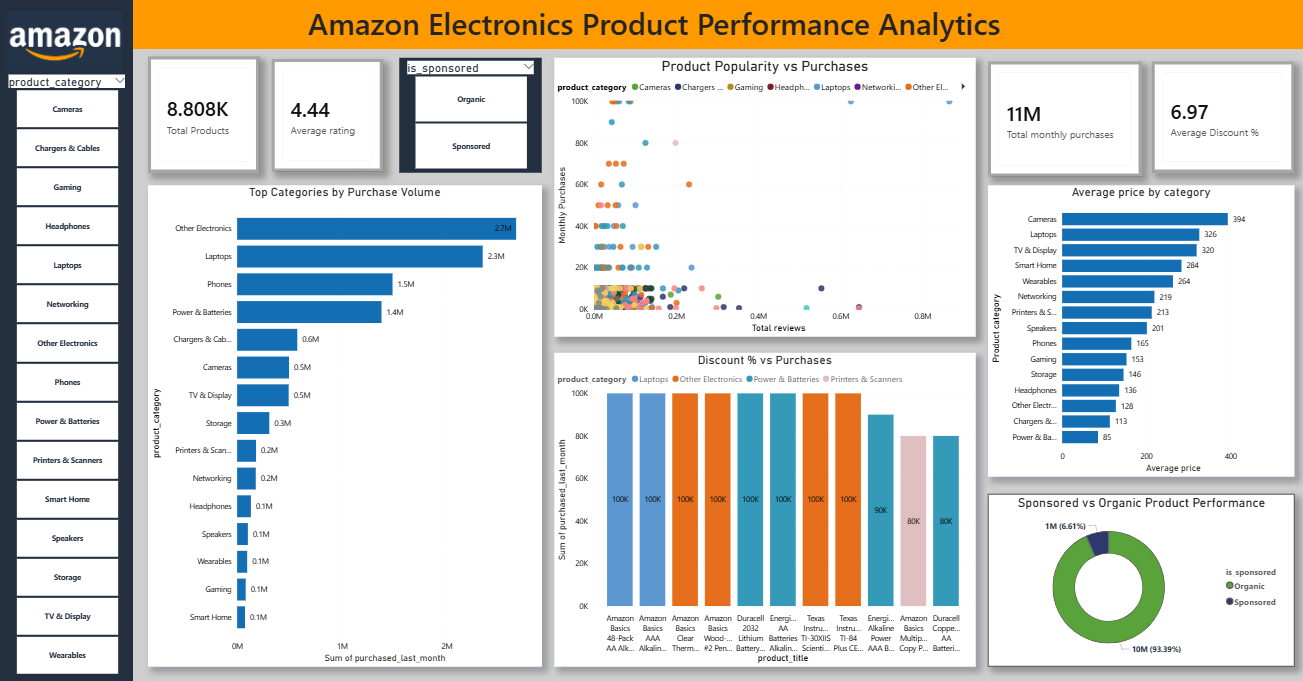

This screenshot's page, from the dashboard's own definition file:
{"tool":"powerbi","page":{"name":"Page 1","canvas":[2100,1100],"ordinal":0},"visuals":[{"type":"cardVisual","fields":{"Data":["CountNonNull(amazon_cleaned.product_title)"]},"box":[240,92,178,138],"z":0},{"type":"cardVisual","fields":{"Data":["Sum(amazon_cleaned.purchased_last_month)"]},"box":[442,94,160,136],"z":1000},{"type":"cardVisual","fields":{"Data":["Avg(amazon_cleaned.product_rating)"]},"box":[1614,98,178,138],"z":2000},{"type":"cardVisual","fields":{"Data":["Avg(amazon_cleaned.discount_percentage)"]},"box":[1818,100,256,136],"z":3000},{"type":"textbox","box":[0,0,2100,80],"z":4000},{"type":"image","box":[9.8,0,117.4,64.8],"z":5000},{"type":"textbox","box":[0,0,216,1100],"z":6000},{"type":"image","box":[14,0,186,144],"z":7000},{"type":"barChart","title":"Top Categories by Purchase Volume","fields":{"Category":["amazon_cleaned.product_category"],"Y":["Sum(amazon_cleaned.purchased_last_month)"]},"box":[240,298,630,770],"z":8000},{"type":"barChart","title":" Category by Average price","fields":{"Category":["amazon_cleaned.product_category"],"Y":["Avg(amazon_cleaned.original_price)"]},"box":[1584,262,490,502],"z":9000},{"type":"scatterChart","title":"Product Quality vs Sales","fields":{"Y":["amazon_cleaned.purchased_last_month"],"Series":["amazon_cleaned.product_category"],"X":["amazon_cleaned.total_reviews"]},"box":[926,94,622,446],"z":10000},{"type":"slicer","fields":{"Values":["amazon_cleaned.product_category"]},"box":[4,116,212,970],"z":11000},{"type":"slicer","fields":{"Values":["amazon_cleaned.is_sponsored"]},"box":[626,94,244,184],"z":12000},{"type":"donutChart","title":"Sponsored vs Organic Product Performance","fields":{"Category":["amazon_cleaned.is_sponsored"],"Y":["Sum(amazon_cleaned.purchased_last_month)"]},"box":[1584,792,490,276],"z":13000},{"type":"clusteredBarChart","title":"Top 10 Products by Purchases","fields":{"Category":["amazon_cleaned.product_title"],"Y":["Sum(amazon_cleaned.purchased_last_month)"]},"box":[926,566,622,502],"z":14000}]}

Visuals, with their boxes in screenshot pixels (x1, y1, x2, y2), scaled from the page's 2100x1100 canvas onto the 1303x681 screenshot:
cardVisual - CountNonNull(amazon_cleaned.product_title): select_region(149, 57, 259, 142)
cardVisual - Sum(amazon_cleaned.purchased_last_month): select_region(274, 58, 374, 142)
cardVisual - Avg(amazon_cleaned.product_rating): select_region(1001, 61, 1112, 146)
cardVisual - Avg(amazon_cleaned.discount_percentage): select_region(1128, 62, 1287, 146)
textbox: select_region(0, 0, 1302, 50)
image: select_region(6, 0, 79, 40)
textbox: select_region(0, 0, 134, 680)
image: select_region(9, 0, 124, 89)
"Top Categories by Purchase Volume" barChart: select_region(149, 184, 540, 661)
" Category by Average price" barChart: select_region(983, 162, 1287, 473)
"Product Quality vs Sales" scatterChart: select_region(575, 58, 960, 334)
slicer - amazon_cleaned.product_category: select_region(2, 72, 134, 672)
slicer - amazon_cleaned.is_sponsored: select_region(388, 58, 540, 172)
"Sponsored vs Organic Product Performance" donutChart: select_region(983, 490, 1287, 661)
"Top 10 Products by Purchases" clusteredBarChart: select_region(575, 350, 960, 661)
